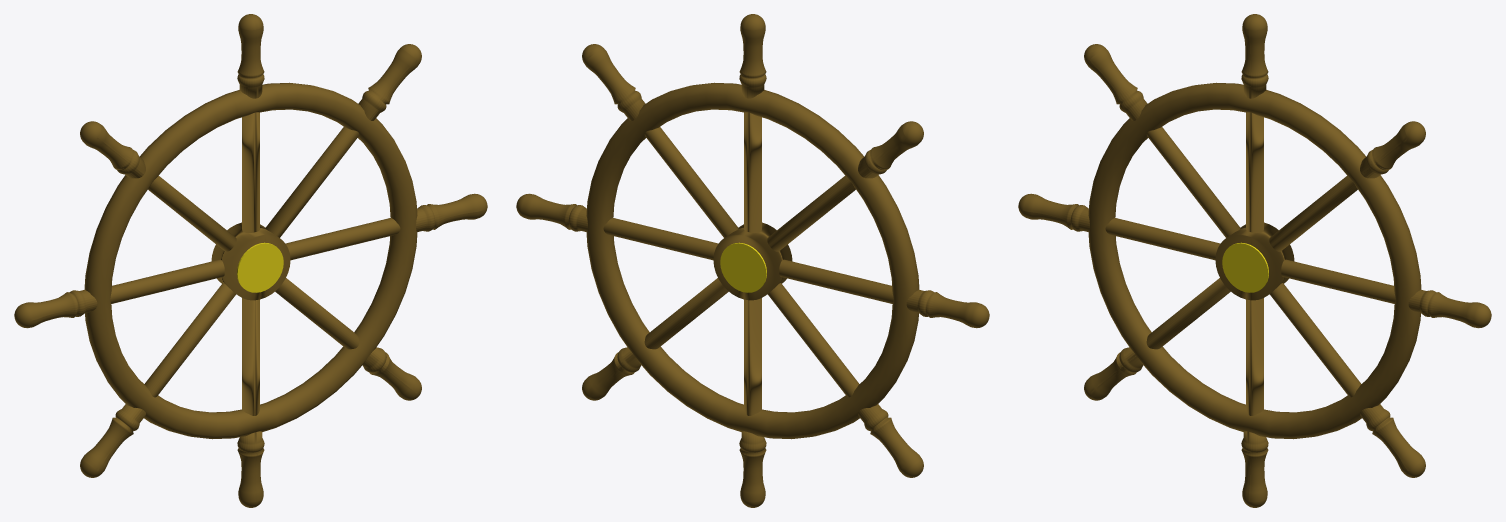
File: Ship Steering Wheel.fbx
3 views of the same model, side by side, from view 1: azimuth 30°, elevation 25°; view 2: azimuth 150°, elevation 25°; view 3: azimuth 330°, elevation 25° (orthographic).
Visible parts, largest first — view 1: Wheel rod 1.007; view 2: Wheel rod 1.007; view 3: Wheel rod 1.007.
Boxes of the visible parts, bbox=[...] form: Wheel rod 1.007: bbox=[14, 14, 487, 507]; Wheel rod 1.007: bbox=[516, 14, 989, 507]; Wheel rod 1.007: bbox=[1018, 14, 1491, 507].
Bounding box in the file's own units: 93.31 × 93.31 × 6.71.
